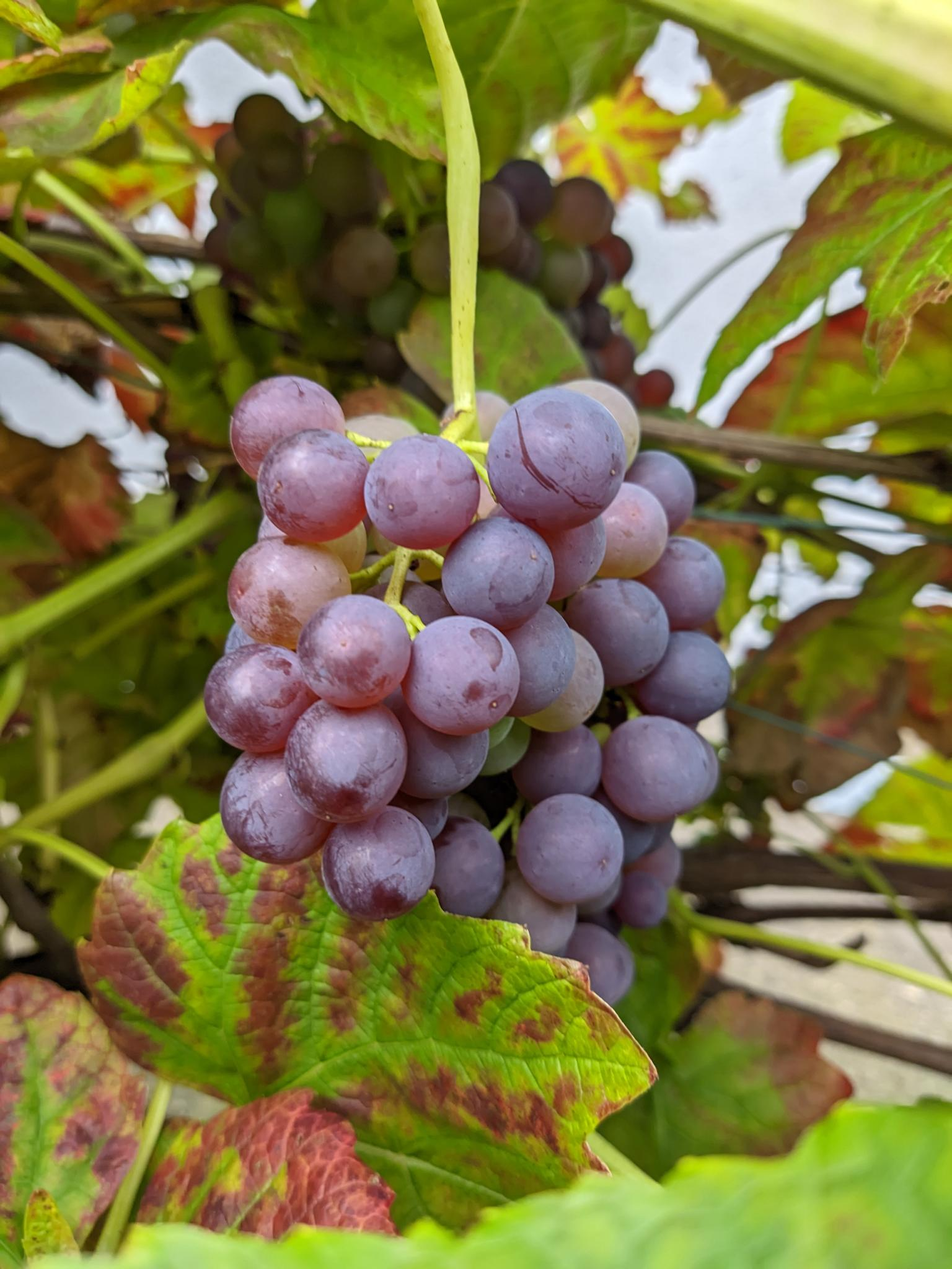Grape Ripe: (205, 378, 729, 1002), (194, 94, 677, 403)
